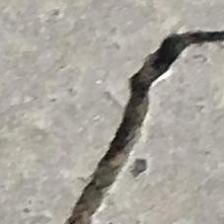Crack: (32, 26, 224, 224)
